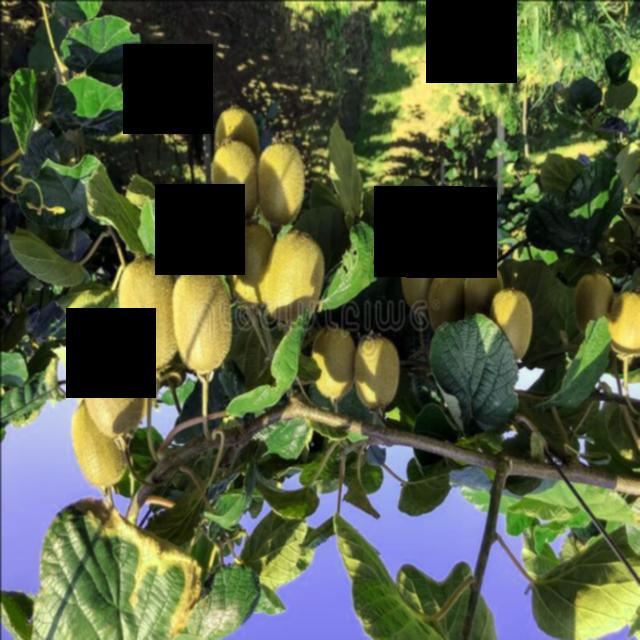kiwi: (115, 254, 178, 374), (170, 271, 235, 382), (81, 338, 145, 442), (265, 227, 328, 331), (68, 403, 128, 494), (255, 139, 309, 225), (228, 220, 277, 313), (208, 139, 257, 223), (308, 326, 358, 407), (489, 285, 537, 367), (354, 335, 402, 414), (569, 271, 617, 343), (400, 242, 441, 318), (428, 270, 466, 338), (463, 259, 506, 315), (611, 286, 640, 367), (210, 102, 262, 147)
